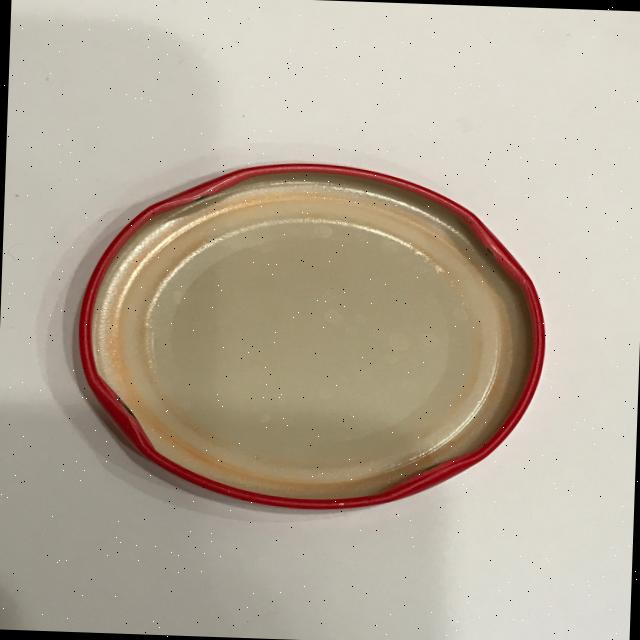metal: (70, 153, 552, 518)
